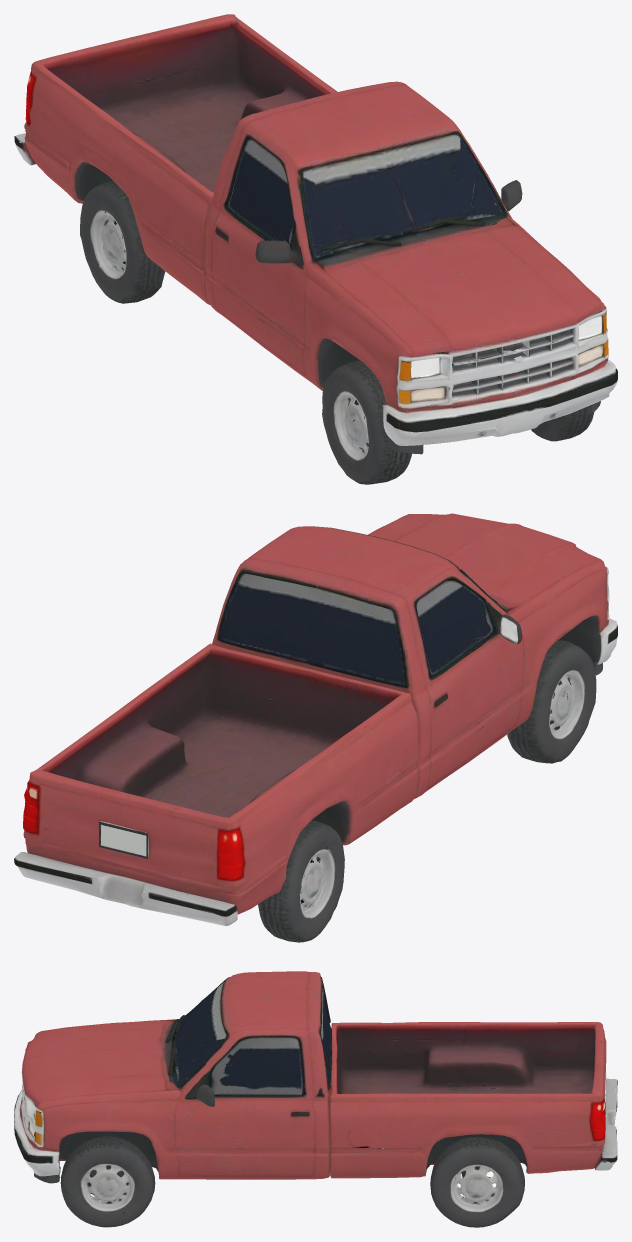
Rendered from pickup.glb.
3 renders of one model, top to bottom at view 1: azimuth 30°, elevation 25°; view 2: azimuth 150°, elevation 25°; view 3: azimuth 270°, elevation 25°, orthographic. The views are drawn at different scales.
Visible parts, largest first — view 1: body, wheel_fl_mesh, wheel_rl_mesh, wheel_fr_mesh; view 2: body, wheel_fl_mesh, wheel_rl_mesh, plate_fill; view 3: body, wheel_fr_mesh, wheel_rr_mesh.
Boxes of the visible parts, box(x1,y1,x2,y2) form: body: box(14, 14, 617, 454); wheel_fl_mesh: box(322, 360, 411, 484); wheel_rl_mesh: box(80, 180, 165, 303); wheel_fr_mesh: box(531, 407, 594, 441); body: box(14, 513, 617, 926); wheel_fl_mesh: box(507, 640, 596, 763); wheel_rl_mesh: box(258, 820, 344, 942); plate_fill: box(99, 821, 147, 858); body: box(14, 971, 617, 1183); wheel_fr_mesh: box(60, 1136, 155, 1227); wheel_rr_mesh: box(430, 1136, 524, 1227).
Bounding box in the file's own units: 0.3571 × 0.3384 × 0.9521.
1 material, 1 textured.
